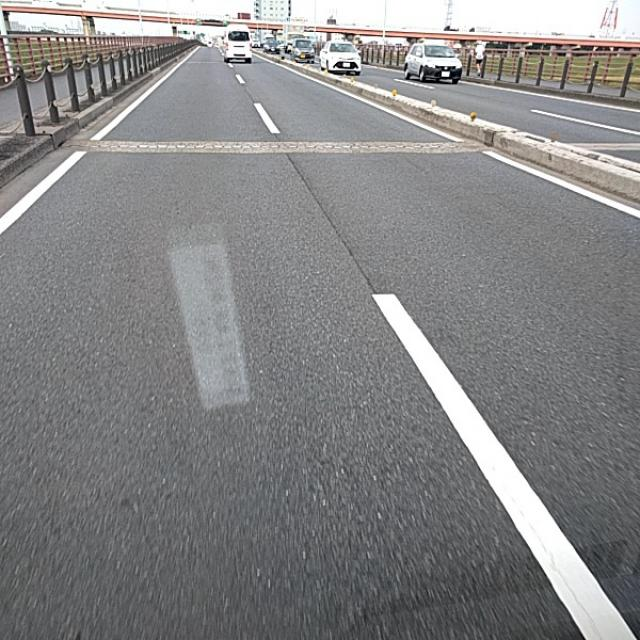pothole: (356, 274, 413, 351)
